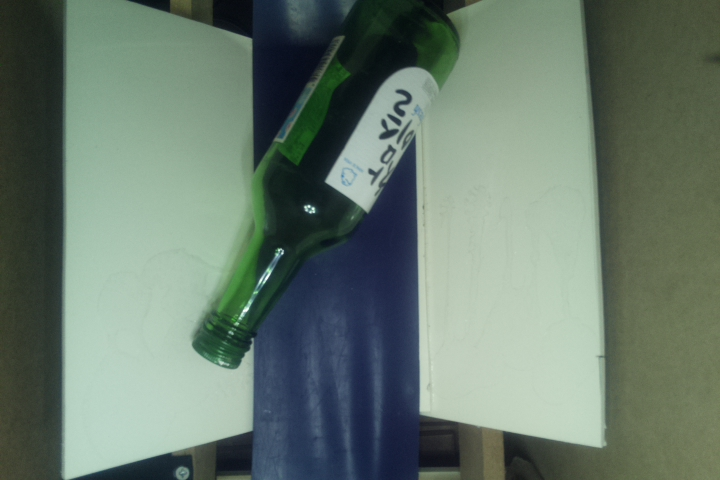soju: (189, 1, 470, 374)
